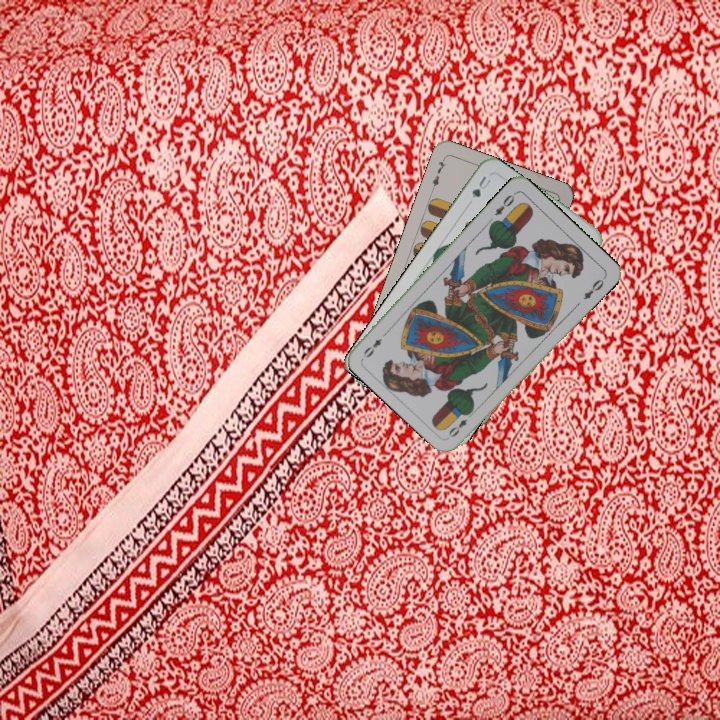E7: (427, 154, 448, 193)
EO: (444, 407, 476, 440), (491, 188, 519, 218)
GU: (468, 172, 494, 201)
